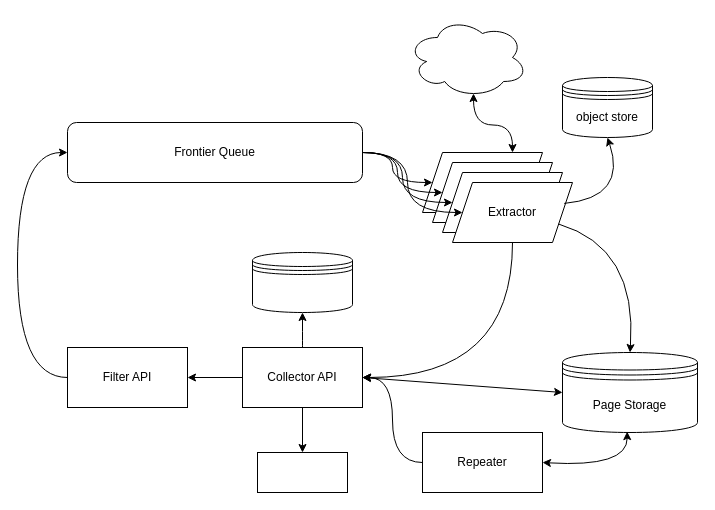
Some shapes in this 715 by 510 pixel diagram are drawn without their labels. Here are the shapes that lost their labels. From the top down, the box of each, then its label:
(406, 16, 528, 98): Internet
(252, 252, 352, 312): Visited/HashSet
(256, 452, 348, 492): DNS Resolver
